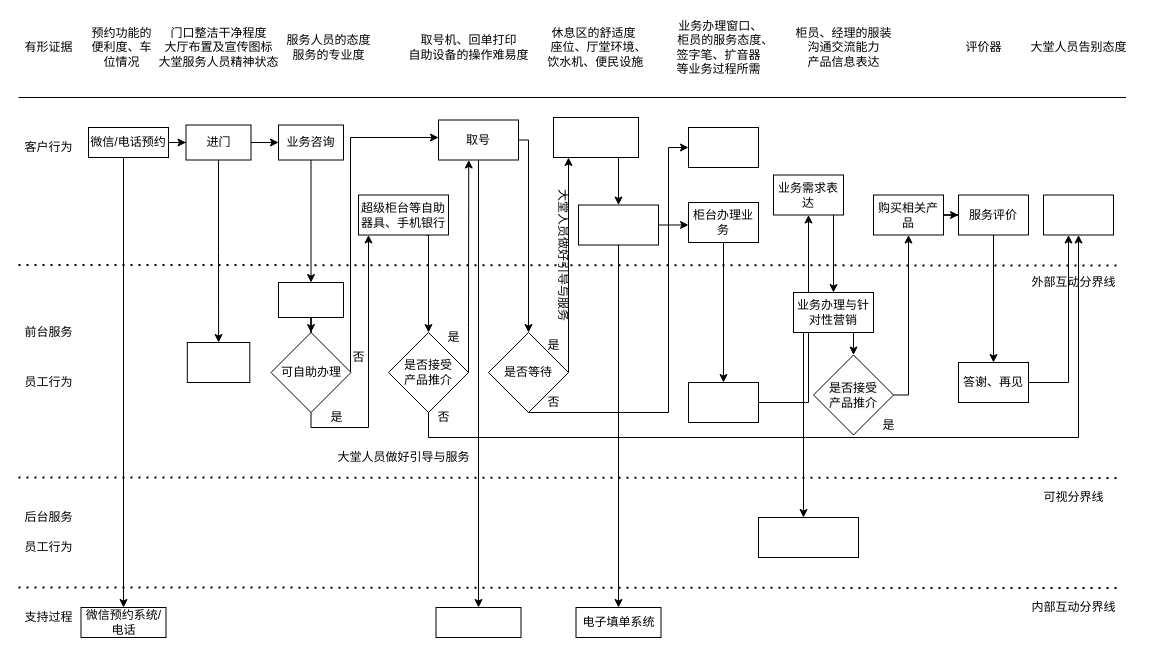
This 1150x663 diagram has some shape labels left out. Each missing label, with the centre of its shape:
休息区等待: point (595, 137)
分流引导: point (311, 300)
后台业务审核、授权、风控: point (808, 537)
大堂经理接待: point (218, 362)
智能叫号系统: point (478, 622)
理财经理办理业务: point (723, 147)
离开: point (1078, 214)
问候及业务需求询问: point (723, 402)
预填单: point (618, 224)
